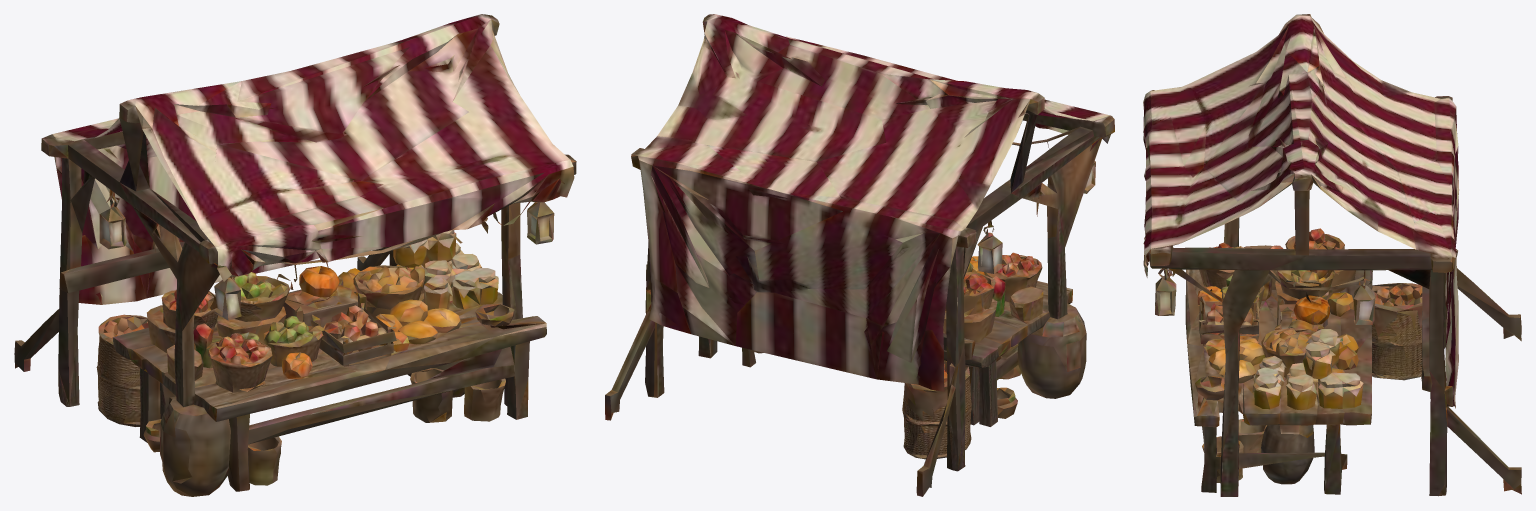
The model's file is stall.glb.
3 renders of one model, left to right at view 1: azimuth 30°, elevation 25°; view 2: azimuth 150°, elevation 25°; view 3: azimuth 270°, elevation 25°, orthographic. The views are drawn at different scales.
Parts seen in each view (by area): view 1: Mesh_0; view 2: Mesh_0; view 3: Mesh_0.
Boxes of the visible parts, x1,y1,x2,y2 form: Mesh_0: [14, 14, 576, 496]; Mesh_0: [605, 14, 1114, 496]; Mesh_0: [1143, 14, 1521, 496].
Size of the model in its own units: 1.9 by 1.76 by 1.83.
1 material, 1 textured.
